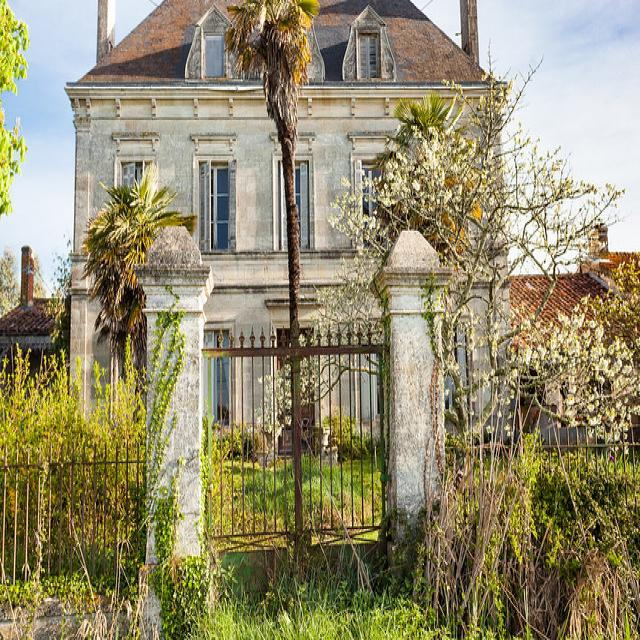Normal_building: (59, 2, 512, 479)
